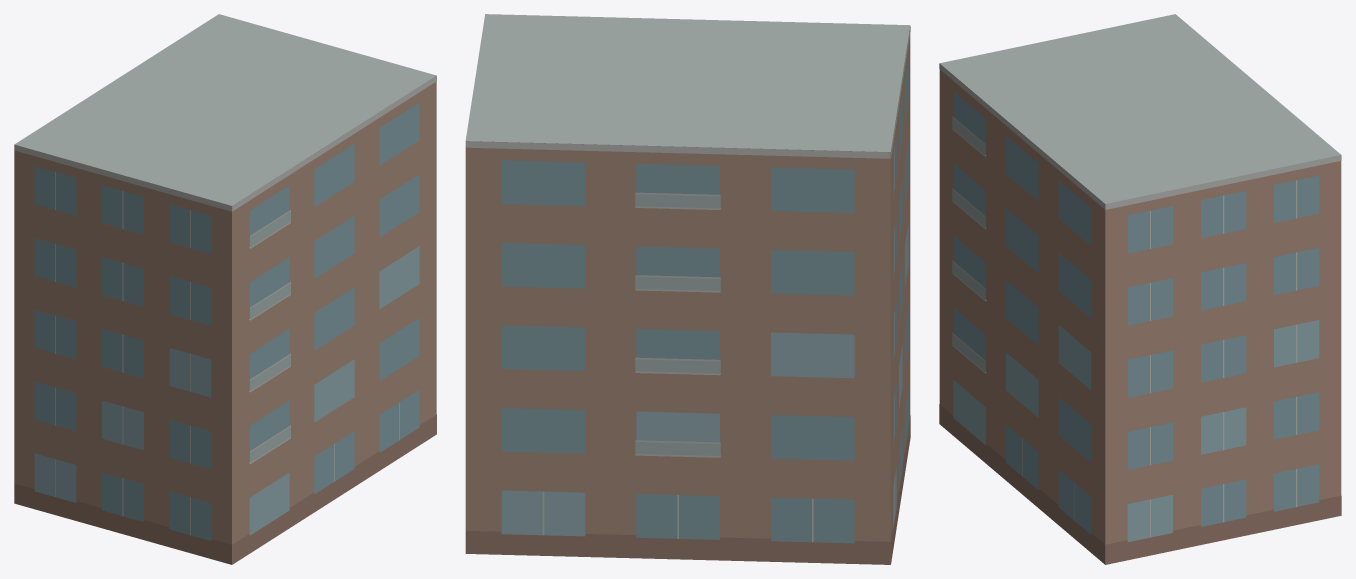
The model's file is survey-upis-33046358.glb.
3 renders of one model, left to right at view 1: azimuth 30°, elevation 25°; view 2: azimuth 150°, elevation 25°; view 3: azimuth 270°, elevation 25°, orthographic. The views are drawn at different scales.
Visible parts, largest first — view 1: survey-upis-33046358.tmp; view 2: survey-upis-33046358.tmp; view 3: survey-upis-33046358.tmp.
Boxes of the visible parts, left/top/right/bottom form: survey-upis-33046358.tmp: left=14, top=14, right=436, bottom=564; survey-upis-33046358.tmp: left=465, top=14, right=910, bottom=564; survey-upis-33046358.tmp: left=939, top=14, right=1341, bottom=564.
Size of the model in its own units: 17.07 by 15.1 by 15.26.
